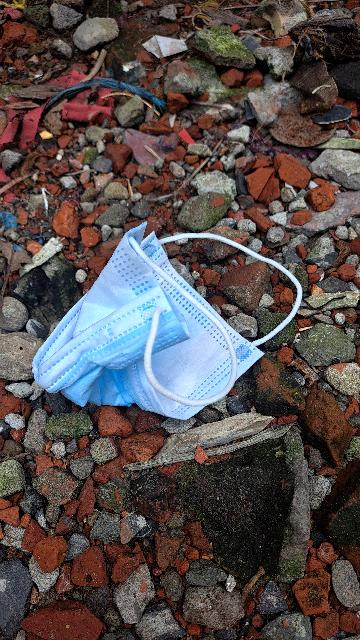mask: (27, 174, 320, 448)
